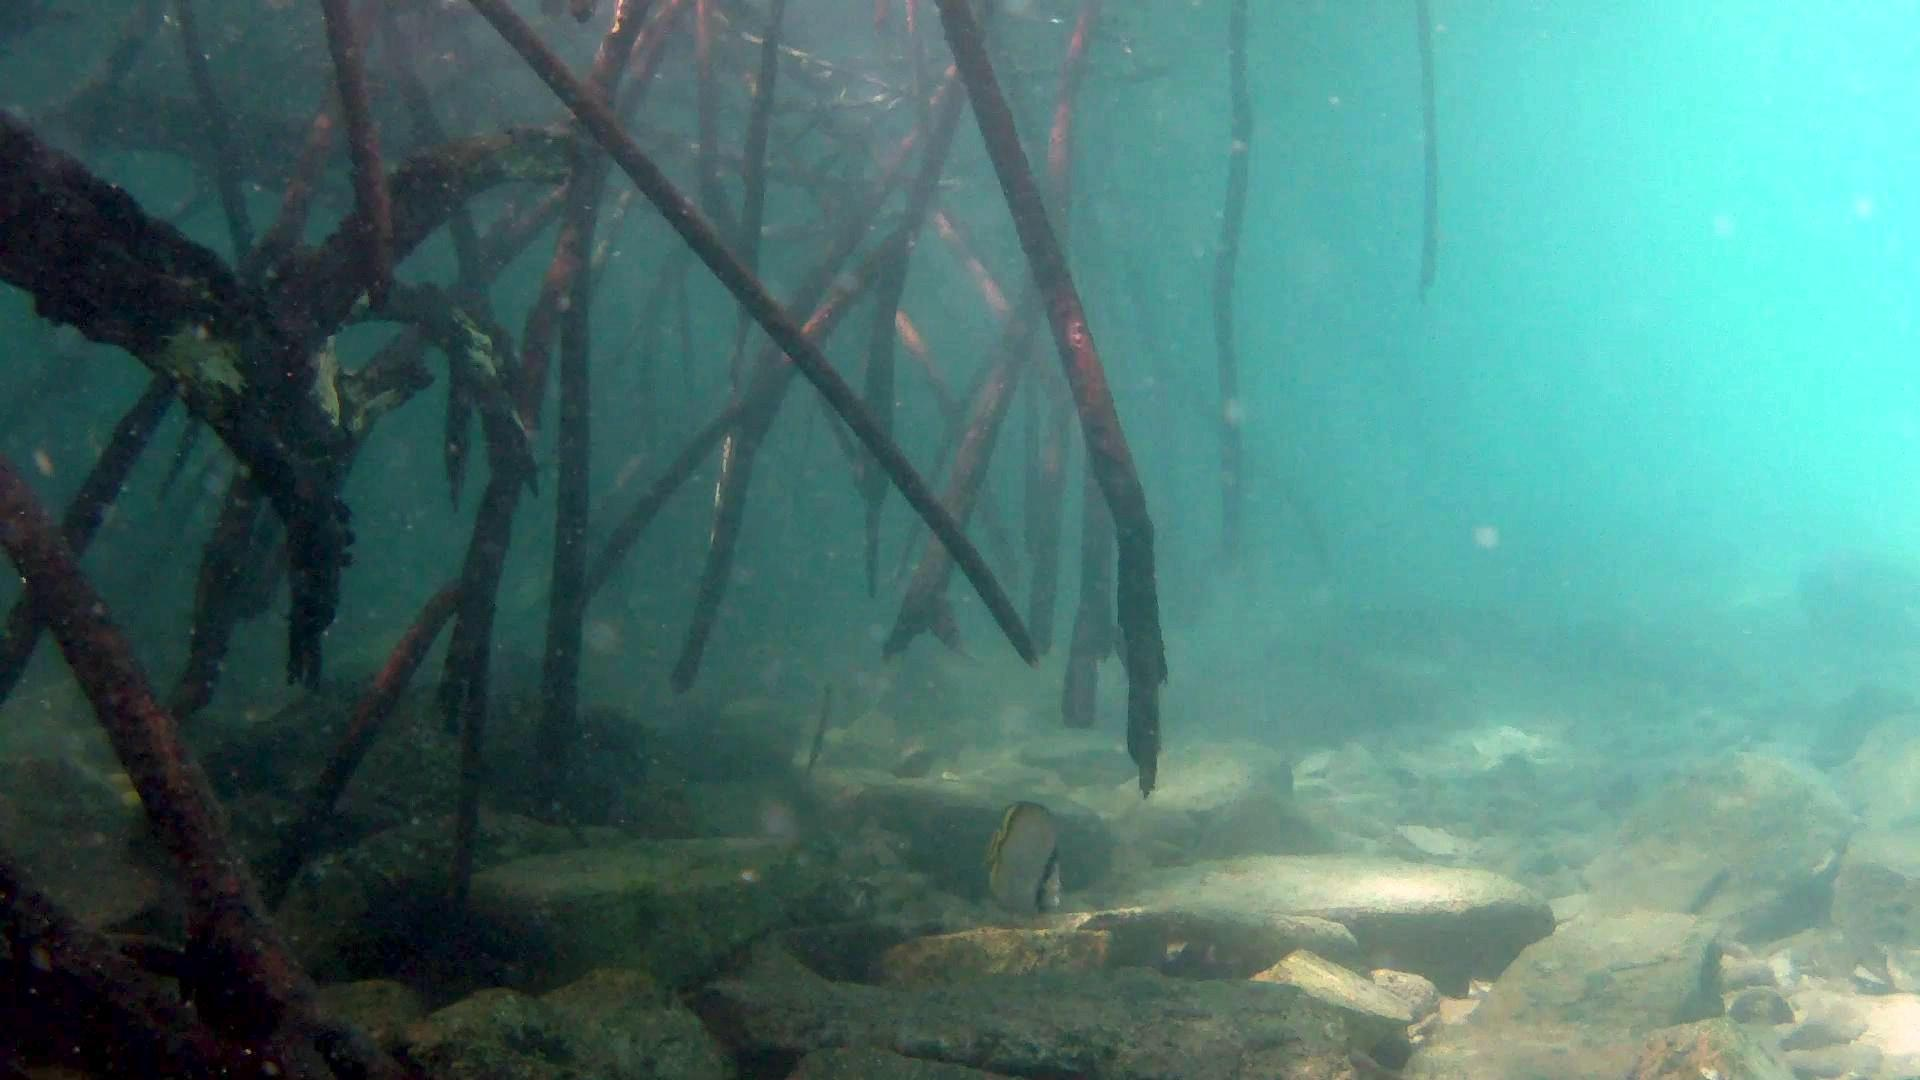chaetodon vagabundus: (982, 796, 1067, 918)
